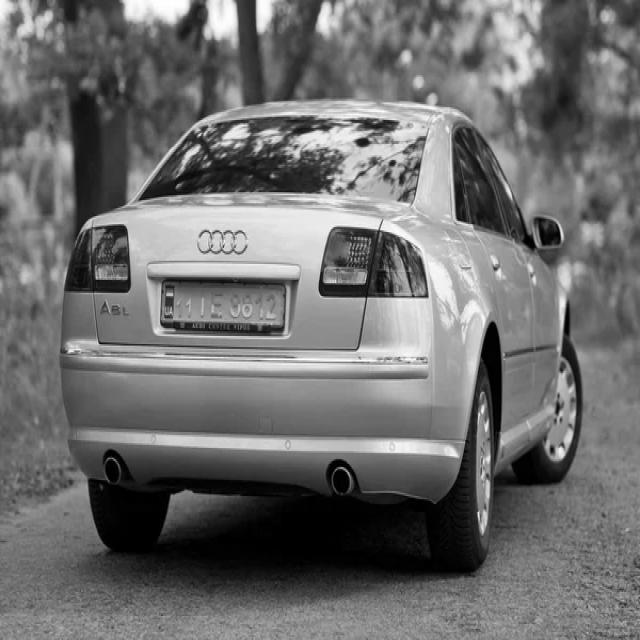Car: (61, 101, 584, 571)
